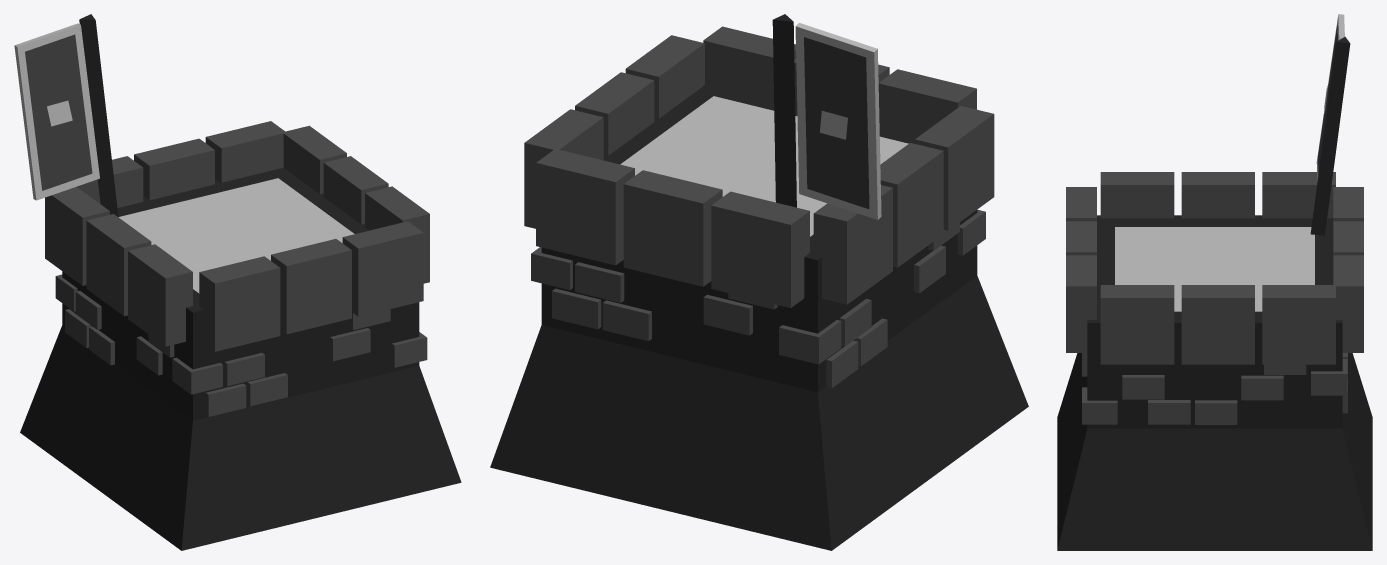
File: castle.glb
The picture shows the model from 3 angles, left to right: view 1: azimuth 30°, elevation 25°; view 2: azimuth 150°, elevation 25°; view 3: azimuth 270°, elevation 25°; orthographic projection. The views are drawn at different scales.
Parts seen in each view (by area): view 1: Castle; view 2: Castle; view 3: Castle.
Boxes of the visible parts, box(x1,y1,x2,y2) form: Castle: box(14, 14, 461, 550); Castle: box(490, 14, 1028, 550); Castle: box(1057, 14, 1372, 550).
Size of the model in its own units: 2.56 by 3.35 by 2.38.
1 material, 1 textured.
